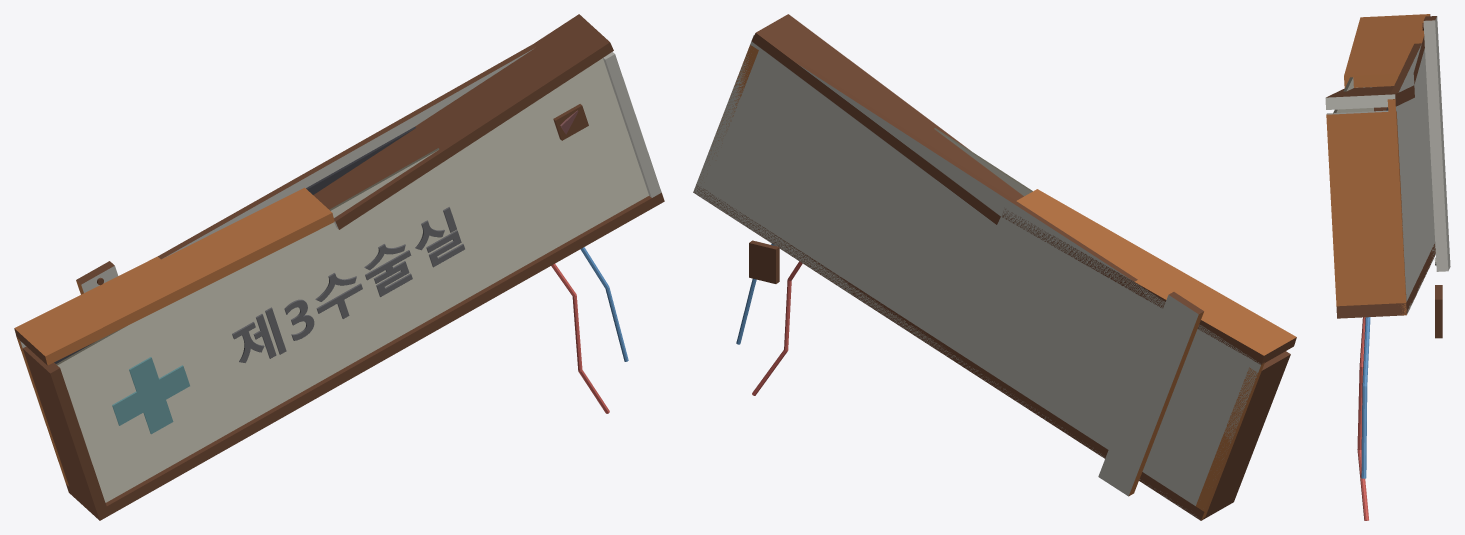
File: operaitingroom_sign_v3.fbx
3 renders of one model, left to right at view 1: azimuth 30°, elevation 25°; view 2: azimuth 150°, elevation 25°; view 3: azimuth 270°, elevation 25°, orthographic. The views are drawn at different scales.
Visible parts, largest first — view 1: 03_OR3_Sign_Damaged_Mesh; view 2: 03_OR3_Sign_Damaged_Mesh; view 3: 03_OR3_Sign_Damaged_Mesh.
Boxes of the visible parts, x1,y1,x2,y2 form: 03_OR3_Sign_Damaged_Mesh: (14, 14, 664, 520); 03_OR3_Sign_Damaged_Mesh: (693, 14, 1296, 520); 03_OR3_Sign_Damaged_Mesh: (1325, 14, 1450, 520).
Size of the model in its own units: 96.69 by 59.54 by 16.09.
